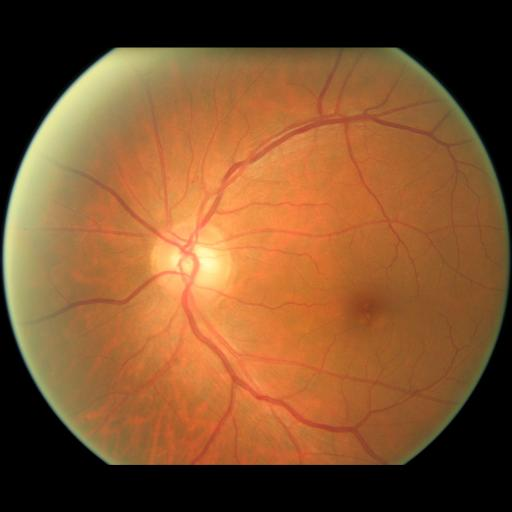Optic Cup: (172, 245, 218, 281)
Optic Disc: (150, 221, 232, 305)
